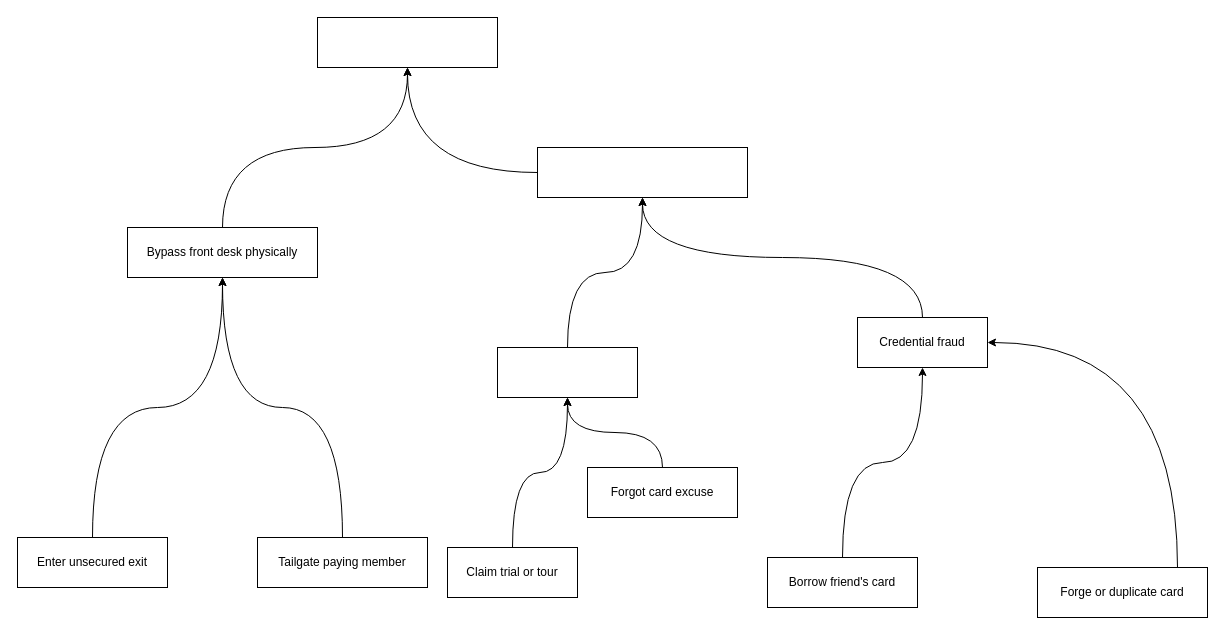
This 1225x635 diagram has some shape labels left out. The shapes that lost their labels are listed below. From the top down, each one's centre as x and y in pixels, then its label:
At point (407, 42): "Enter gym without paying".
At point (642, 172): "Deceive staff or access system".
At point (567, 372): "Social engineering".
